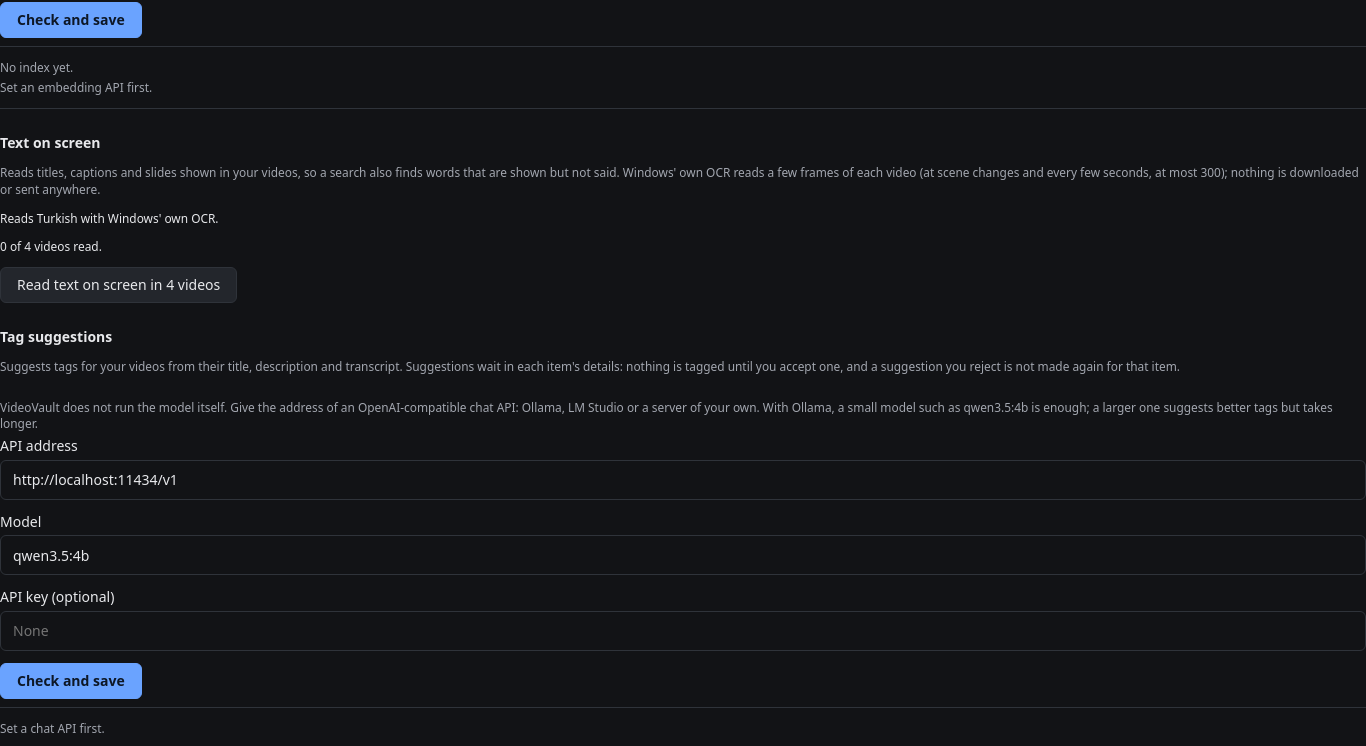
Scenario: Tag suggestions › needs a chat API, asks before another computer, and suggests for all
(page scrolled)
Expected: the element with test id "tag-suggest" shows "Set a chat API first.", [0, 720, 105, 736]
Expected: the field with test id "suggest-api-model" holds "qwen3.5:4b", [0, 535, 1365, 575]
In the field with test id "suggest-api-url": point(683, 480) [0, 460, 1365, 500], type "https://llm.example.com/v1"
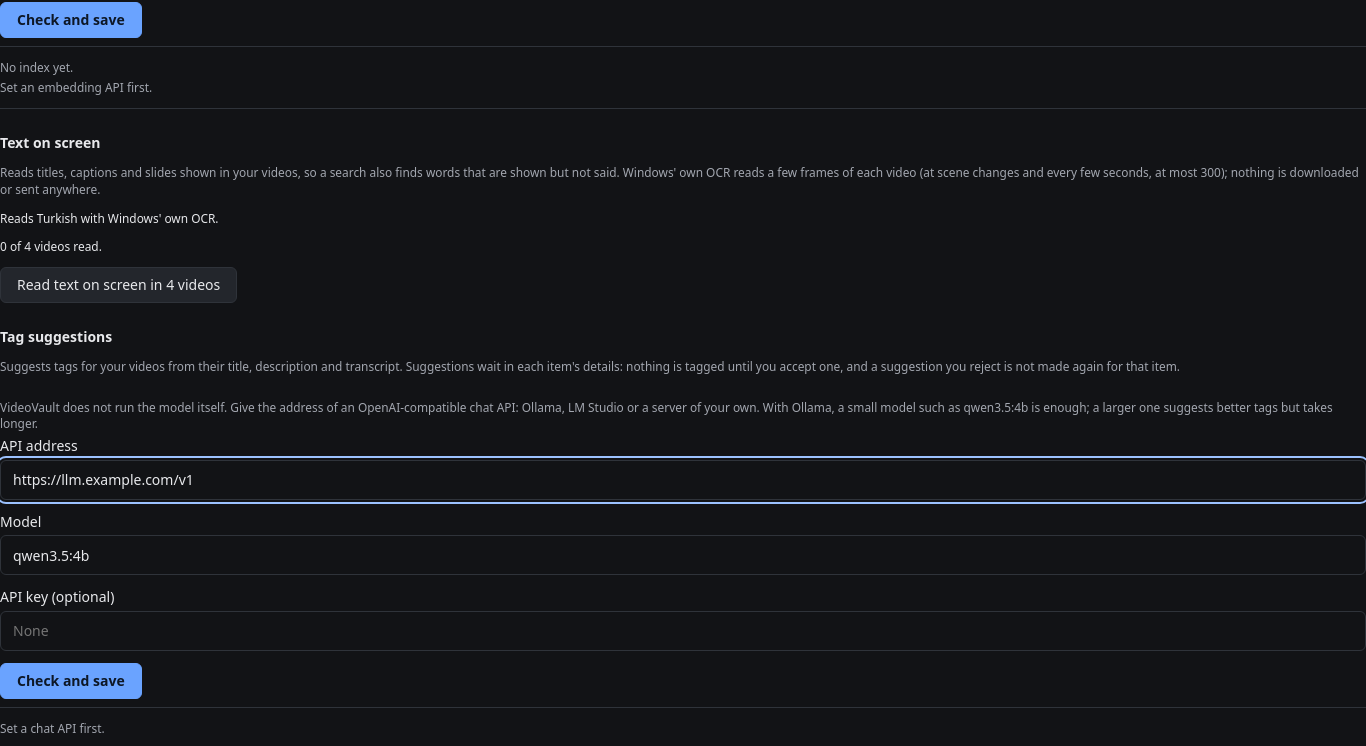
Click the button with test id "suggest-api-save": point(71, 681) [0, 663, 142, 699]
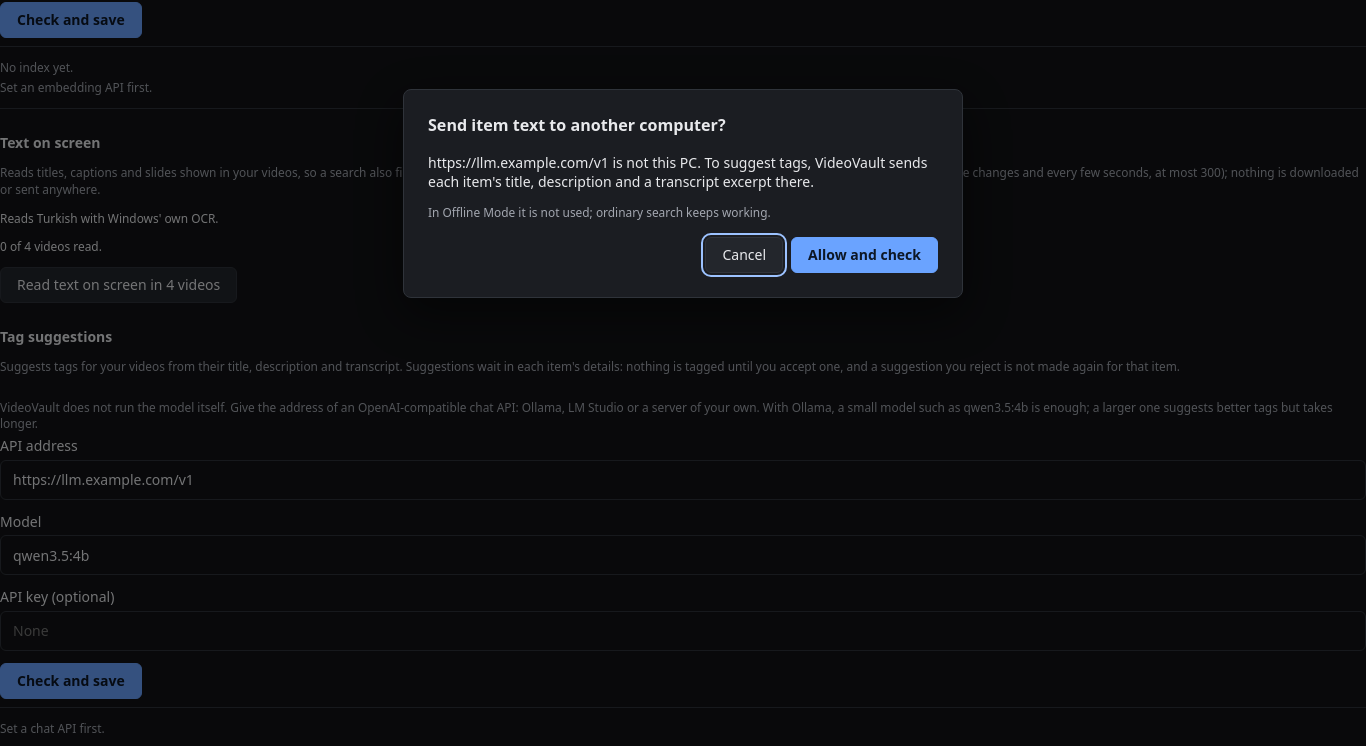
Expected: the dialog with test id "confirm-dialog" shows "https://llm.example.com/v1 is not this PC", [428, 153, 927, 191]
Click the button "Cancel": point(744, 254) [706, 236, 783, 272]
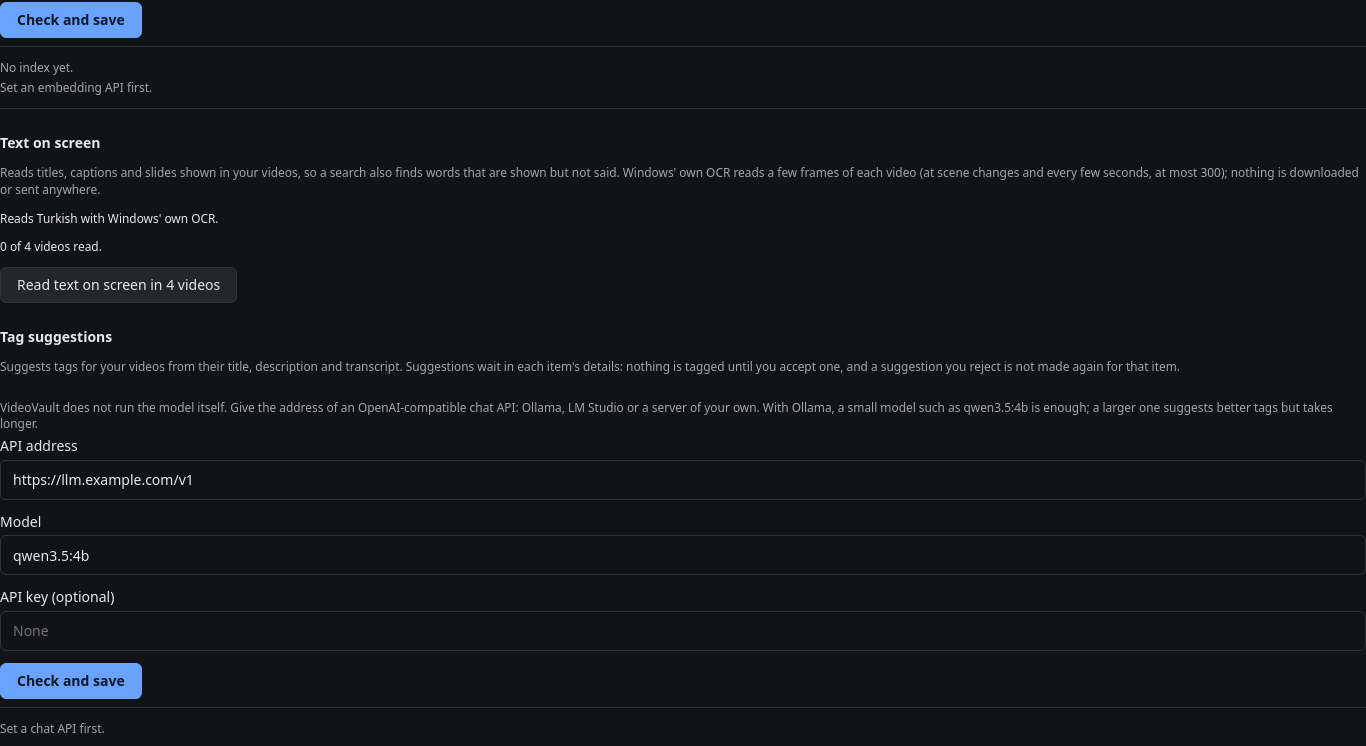
Replace the text in the field with test id "suggest-api-url" with "http://localhost:11434/v1": point(683, 480) [0, 460, 1365, 500]
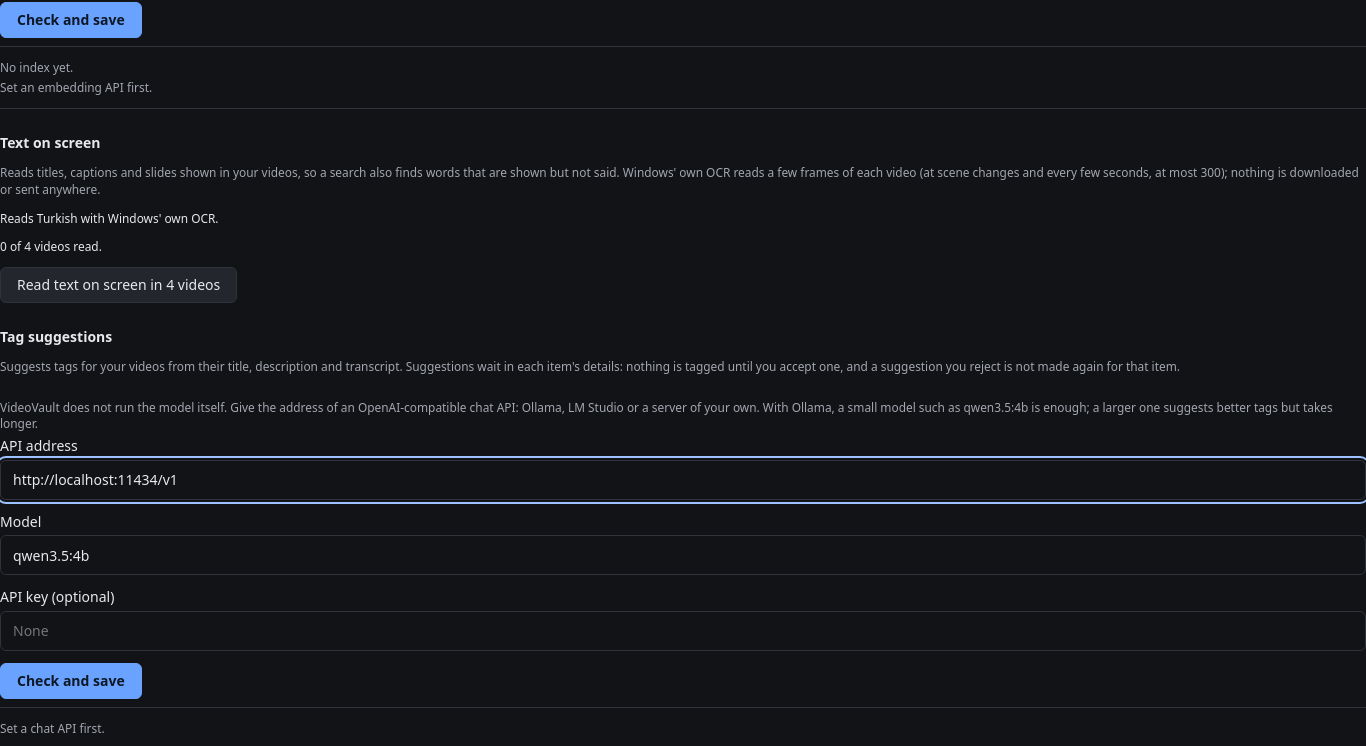
Click the button with test id "suggest-api-save": point(71, 681) [0, 663, 142, 699]
(page scrolled)
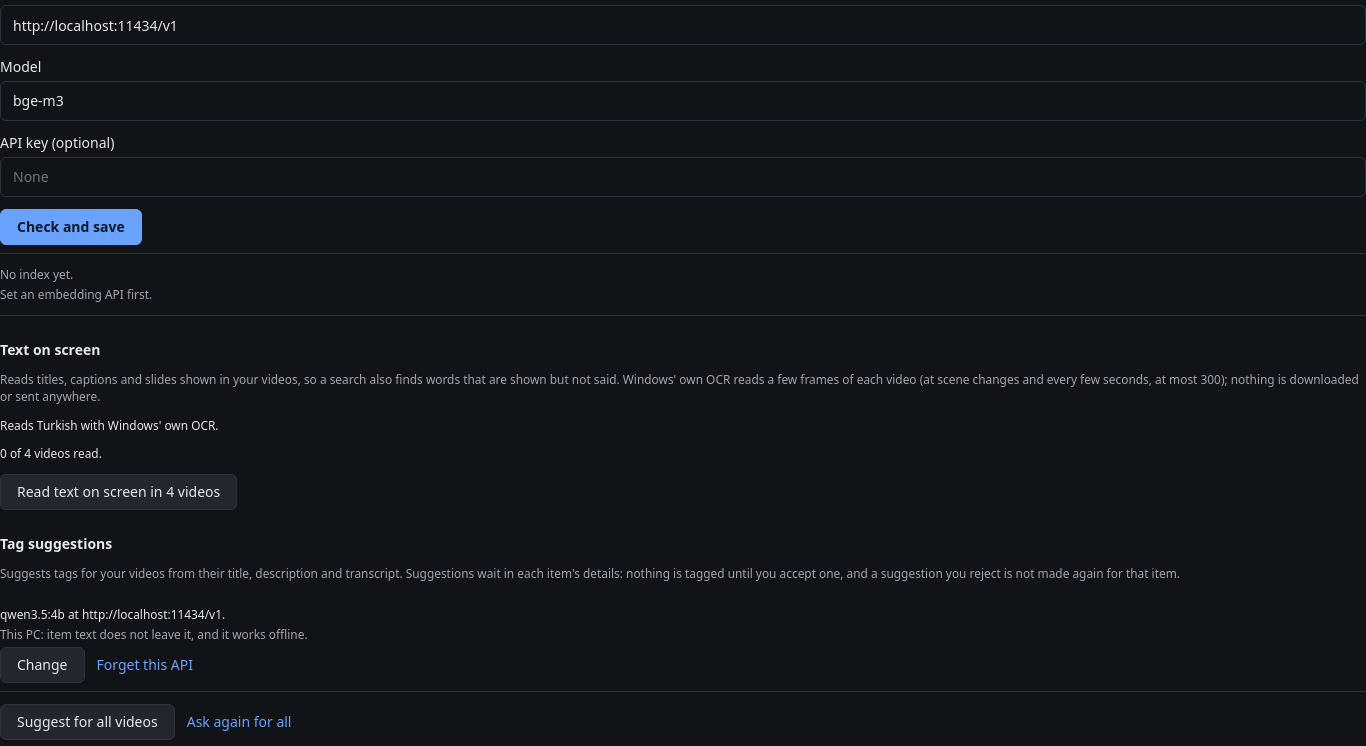
Expected: the text with test id "suggest-api-summary" reads "qwen3.5:4b at http://localhost:11434/v1.", [0, 606, 225, 622]
Expected: the element with test id "tag-suggest" shows "item text does not leave it", [0, 626, 308, 642]
Click the button with test id "suggest-all": point(87, 722) [0, 704, 175, 740]
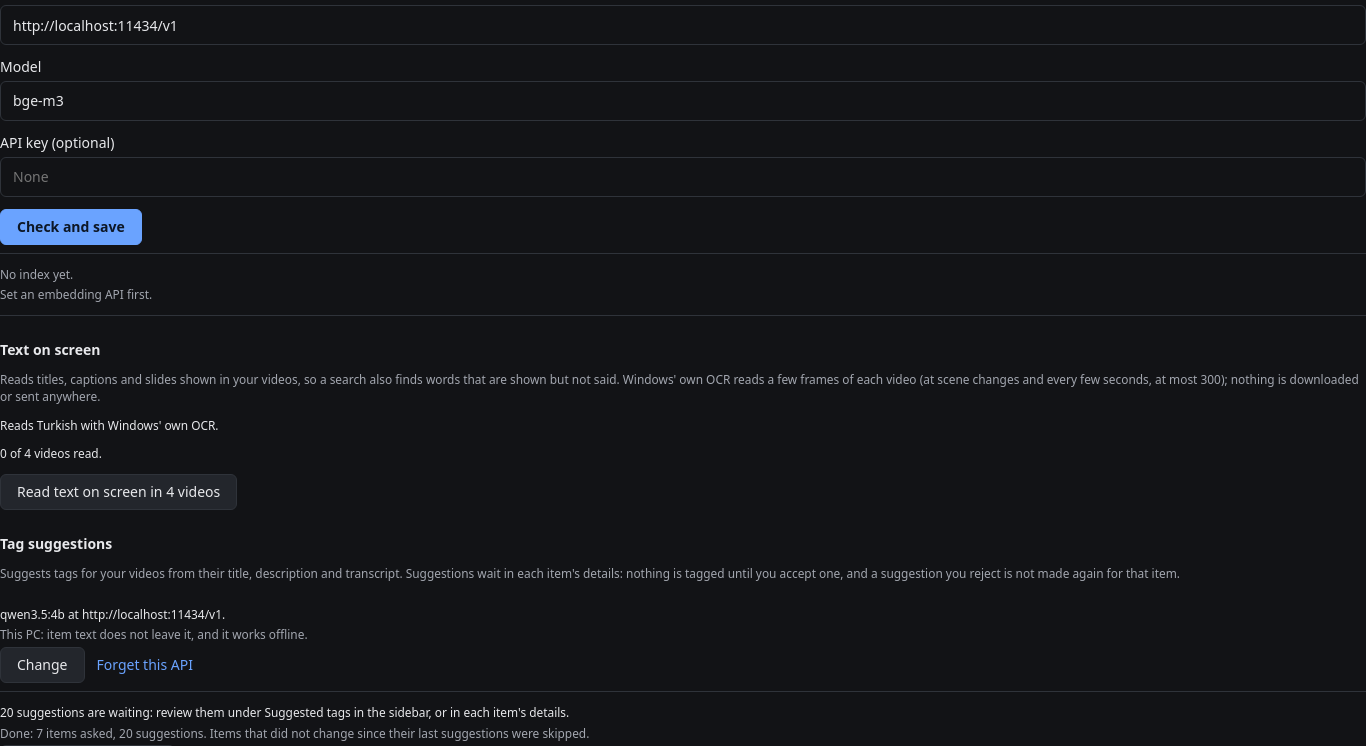
Expected: the text with test id "suggest-pending" shows "suggestions are waiting", [0, 704, 569, 720]
